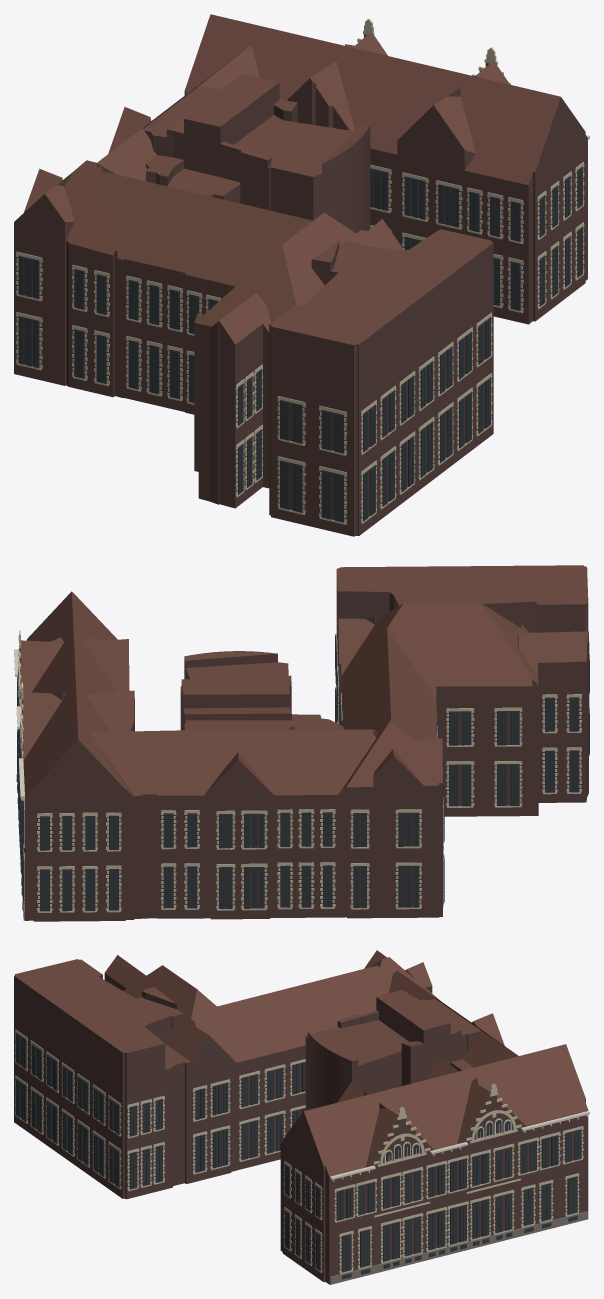
File: mauritskade-61.glb
3 renders of one model, top to bottom at view 1: azimuth 30°, elevation 25°; view 2: azimuth 150°, elevation 25°; view 3: azimuth 270°, elevation 25°, orthographic. The views are drawn at different scales.
Parts seen in each view (by area): view 1: mauritskade-61; view 2: mauritskade-61; view 3: mauritskade-61.
Part boxes in pixels (box(x1,y1,x2,y2)): mauritskade-61: box(14, 14, 589, 536); mauritskade-61: box(14, 565, 589, 921); mauritskade-61: box(14, 950, 589, 1284).
Size of the model in its own units: 54.4 by 21.08 by 66.79.
